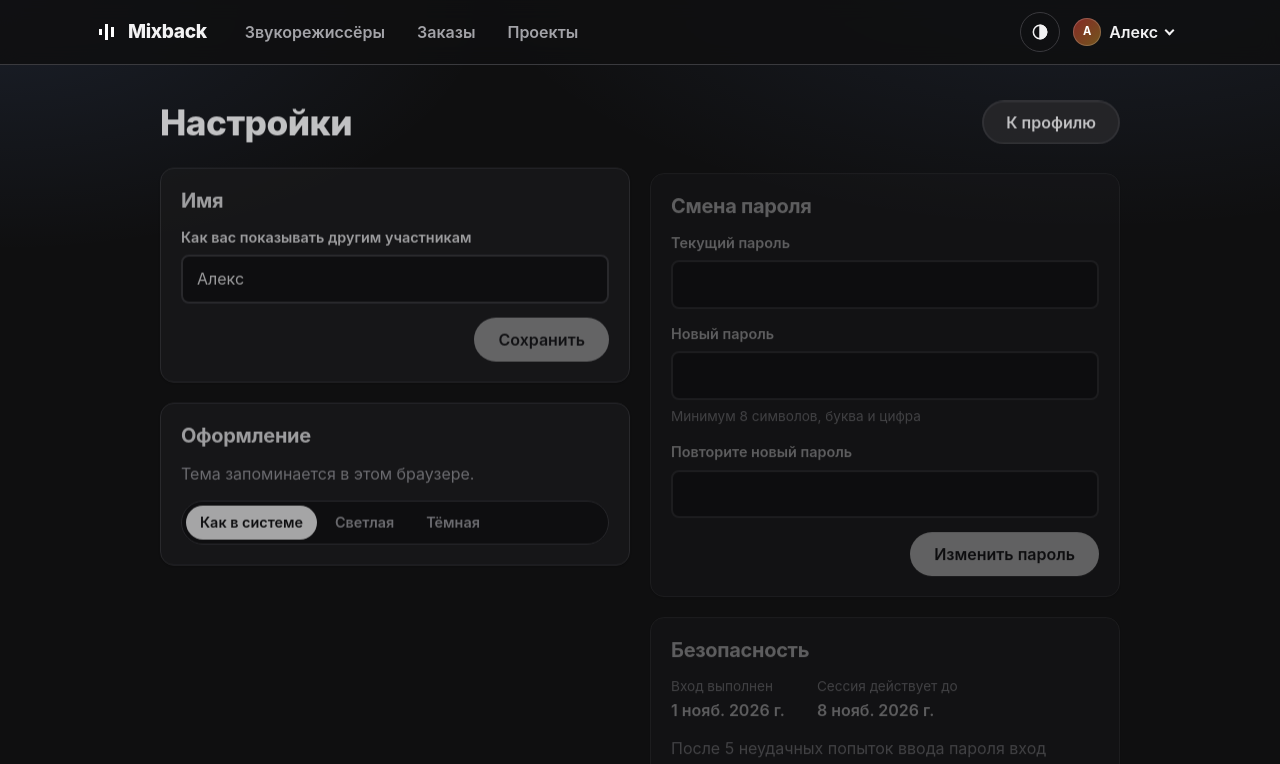
it: ProfilePage › смена пароля › пустая отправка показывает ошибки
Expected: the heading "Настройки" is shown, top-left (160, 101), bottom-right (352, 144)
Click the button "Изменить пароль". click: (1005, 554)
box: top-left (910, 532), bottom-right (1099, 576)
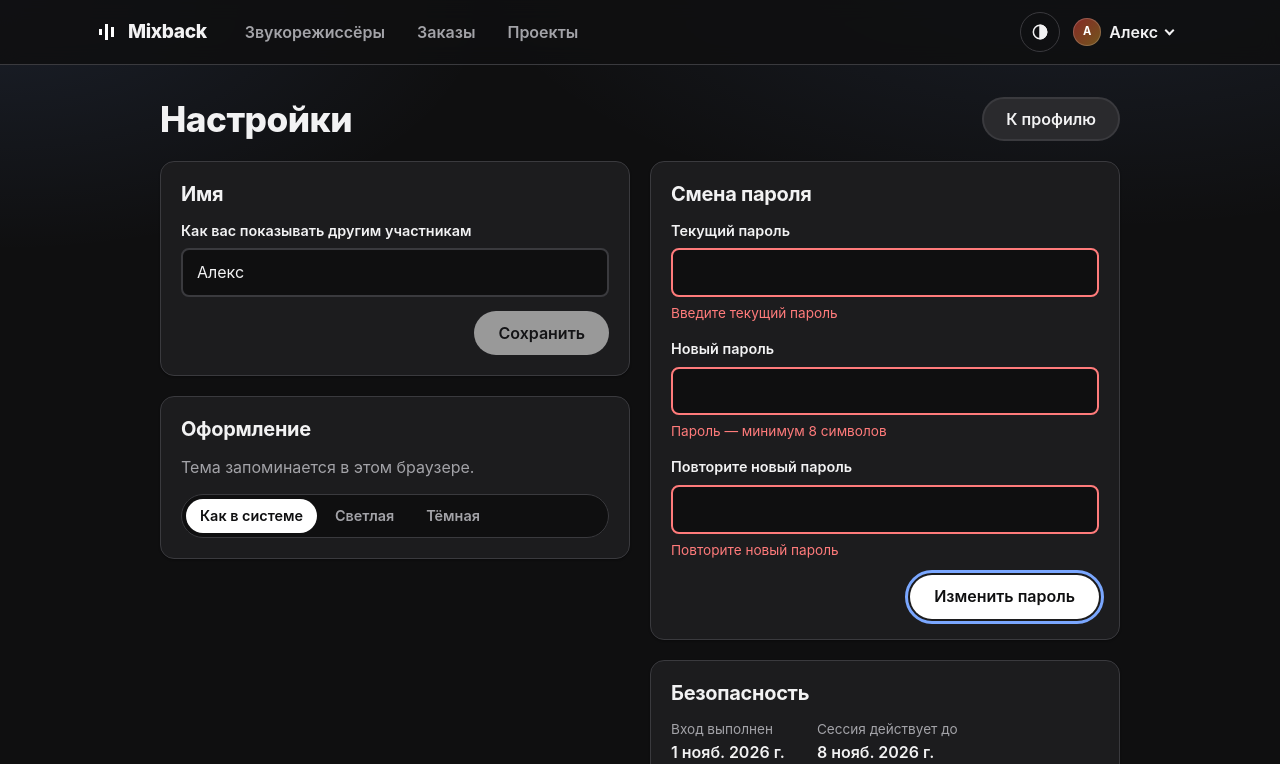
Now the text "Введите текущий пароль" is shown, box top-left (671, 305), bottom-right (838, 321)
Now the text "Повторите новый пароль" is shown, box top-left (671, 542), bottom-right (839, 558)
